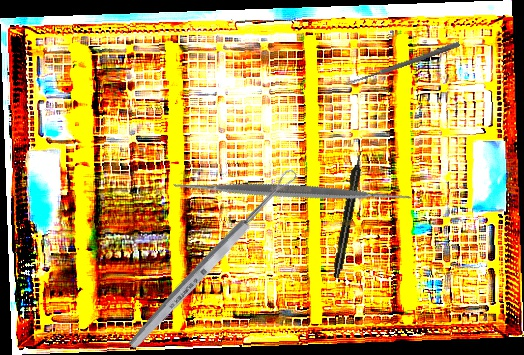Handpiece: (330, 150, 367, 279)
Spatula Surgical: (165, 64, 421, 320)
Surgical Spoon: (125, 166, 301, 352), (344, 40, 461, 88)
